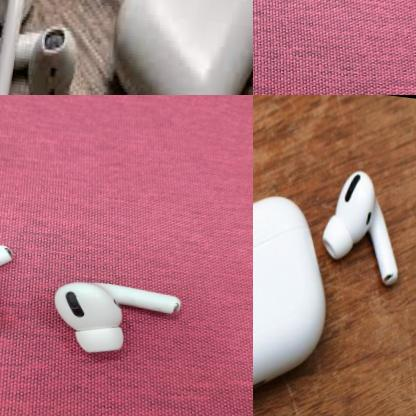Airpods: (34, 262, 207, 369), (318, 166, 408, 283), (0, 13, 79, 95), (0, 0, 39, 95)
